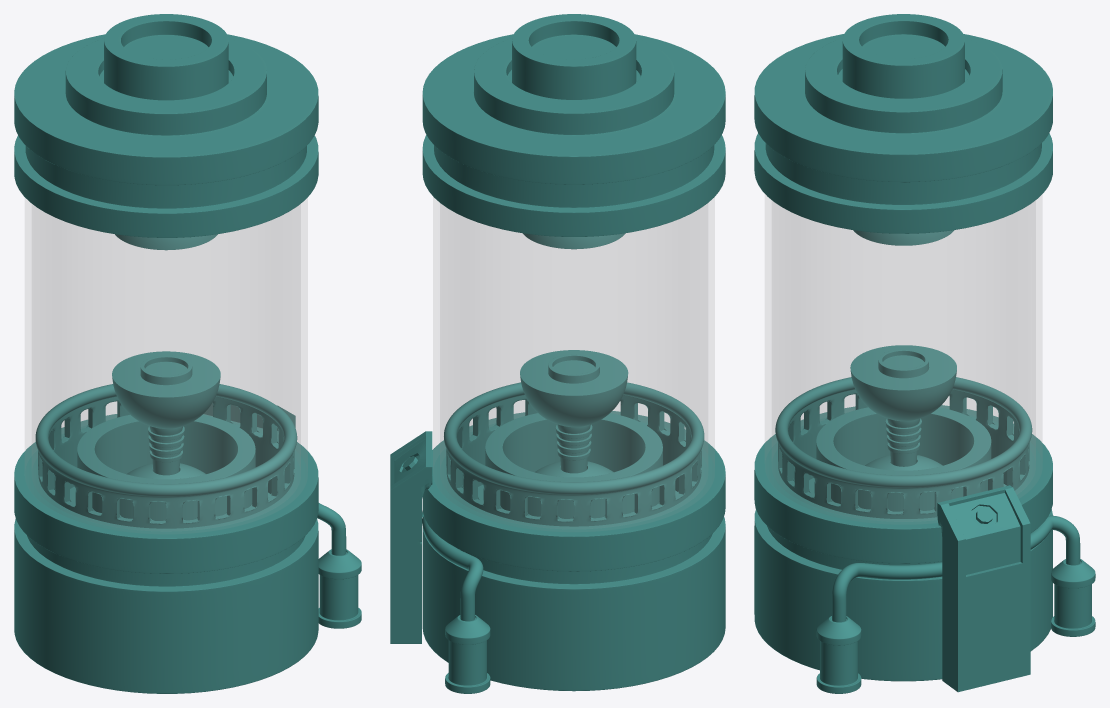
File: MexeMexes.fbx
3 views of the same model, side by side, from view 1: azimuth 30°, elevation 25°; view 2: azimuth 150°, elevation 25°; view 3: azimuth 270°, elevation 25° (orthographic).
Parts seen in each view (by area): view 1: BaseCilindricaExterior.001; view 2: BaseCilindricaExterior.001; view 3: BaseCilindricaExterior.001.
Part boxes in pixels (x1,y1,x2,y2): BaseCilindricaExterior.001: [14, 14, 361, 693]; BaseCilindricaExterior.001: [390, 14, 725, 693]; BaseCilindricaExterior.001: [754, 14, 1095, 693].
Size of the model in its own units: 235 by 456 by 243.
